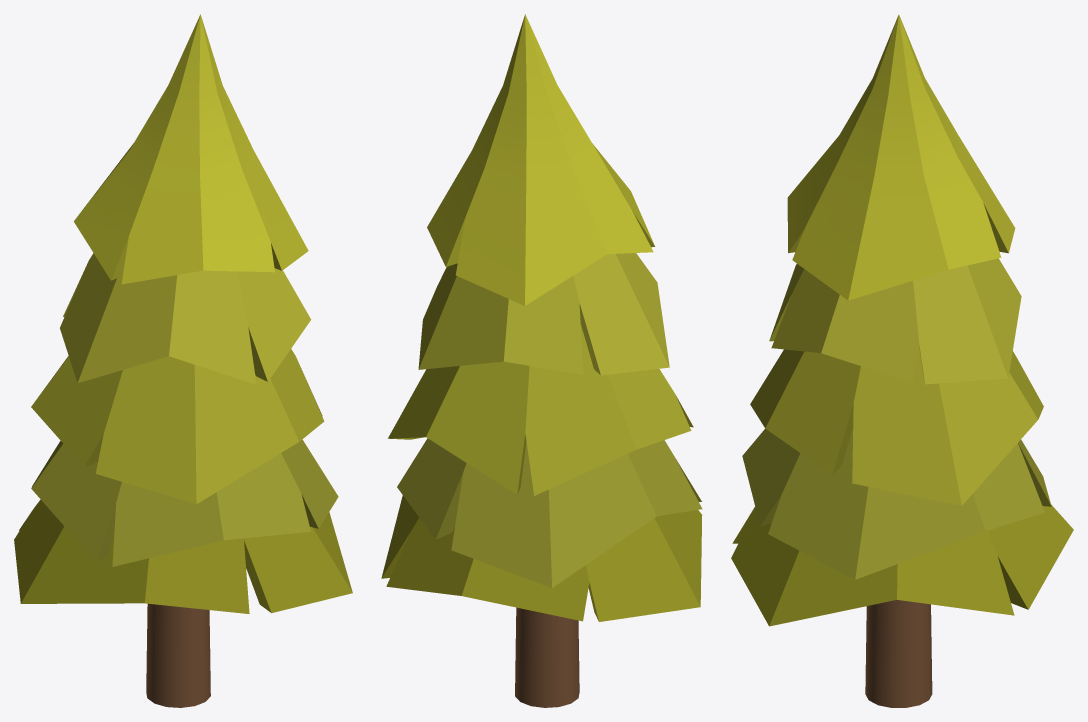
File: Spruce_Yellow_1.fbx
3 renders of one model, left to right at view 1: azimuth 30°, elevation 25°; view 2: azimuth 150°, elevation 25°; view 3: azimuth 270°, elevation 25°, orthographic. The views are drawn at different scales.
Visible parts, largest first — view 1: Cylinder.364, Cylinder.365, Cylinder.366, Cylinder.368, Cylinder.367, Cylinder.369; view 2: Cylinder.364, Cylinder.365, Cylinder.367, Cylinder.366, Cylinder.368, Cylinder.369; view 3: Cylinder.364, Cylinder.365, Cylinder.367, Cylinder.366, Cylinder.368, Cylinder.369.
Boxes of the visible parts, x1,y1,x2,y2 form: Cylinder.364: (74, 14, 308, 284); Cylinder.365: (31, 349, 324, 504); Cylinder.366: (60, 253, 311, 384); Cylinder.368: (14, 499, 352, 613); Cylinder.367: (31, 439, 338, 566); Cylinder.369: (146, 603, 210, 707); Cylinder.364: (427, 14, 655, 305); Cylinder.365: (388, 324, 693, 495); Cylinder.367: (397, 438, 702, 587); Cylinder.366: (418, 253, 669, 375); Cylinder.368: (381, 495, 702, 621); Cylinder.369: (515, 607, 579, 707); Cylinder.364: (787, 14, 1015, 300); Cylinder.365: (750, 347, 1043, 505); Cylinder.367: (742, 427, 1051, 579); Cylinder.366: (769, 258, 1021, 384); Cylinder.368: (731, 504, 1073, 626); Cylinder.369: (865, 600, 932, 707).
Size of the model in its own units: 265 by 567 by 255.
